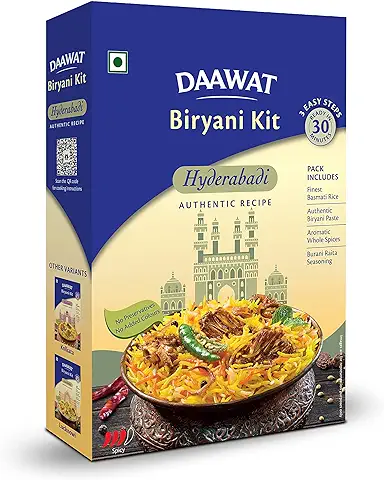Biryani: (45, 5, 351, 465)
